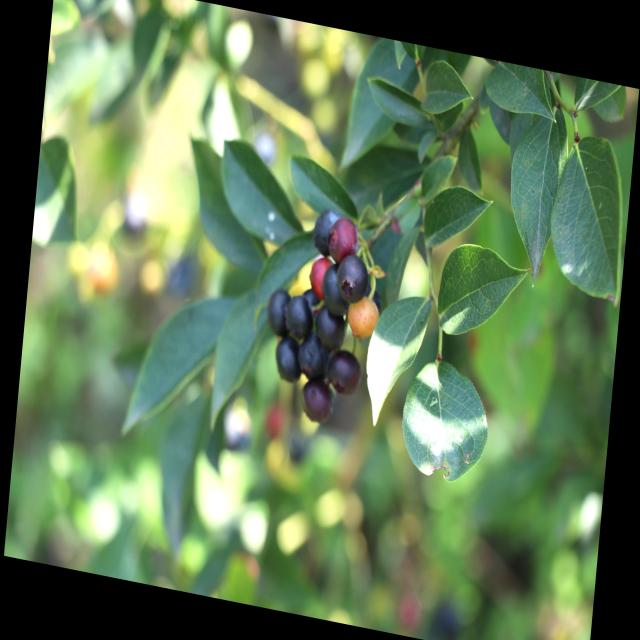blueberry: (334, 252, 370, 304), (320, 261, 353, 317), (300, 373, 336, 424), (328, 345, 363, 396), (272, 334, 304, 384), (314, 304, 346, 351), (299, 333, 331, 379), (311, 206, 338, 258), (285, 294, 315, 339), (267, 287, 291, 334)
blueberry-halfripe: (346, 293, 383, 340), (328, 216, 358, 260), (308, 253, 332, 298)
